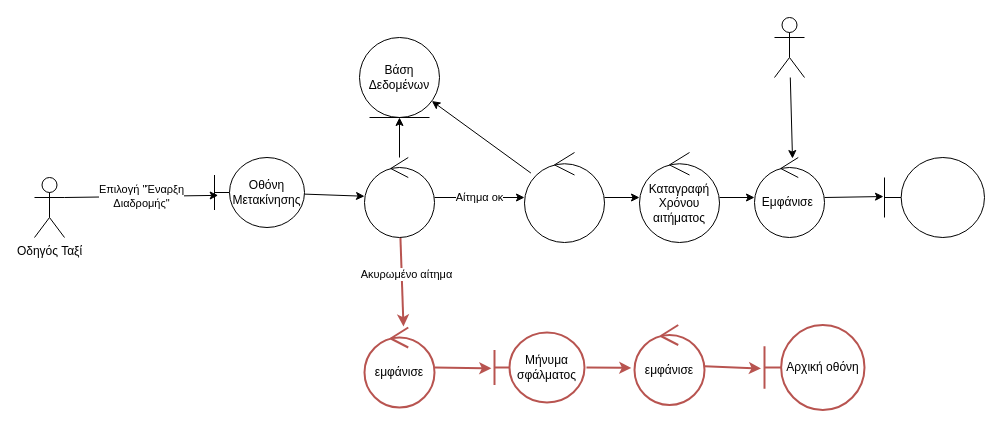
Some shapes in this 1002 by 428 pixel diagram are drawn without their labels. Here are the shapes that lost their labels. From the top down, the centre of each, then its label:
[789,47]: Υπηρεσία Χάρτη
[399,197]: Έλεγχος κατάστασης αιτήματος
[564,197]: Ενημέρωση κατάστασης αιτήματος
[934,197]: Οδηγίες μετακίνησης
